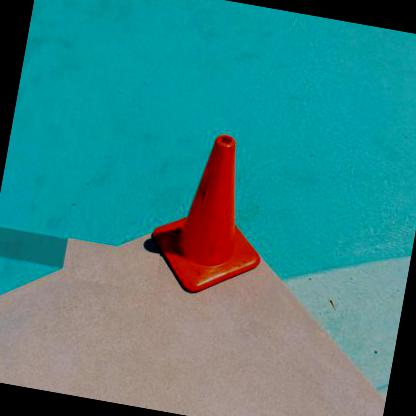cone: (141, 124, 281, 306)
